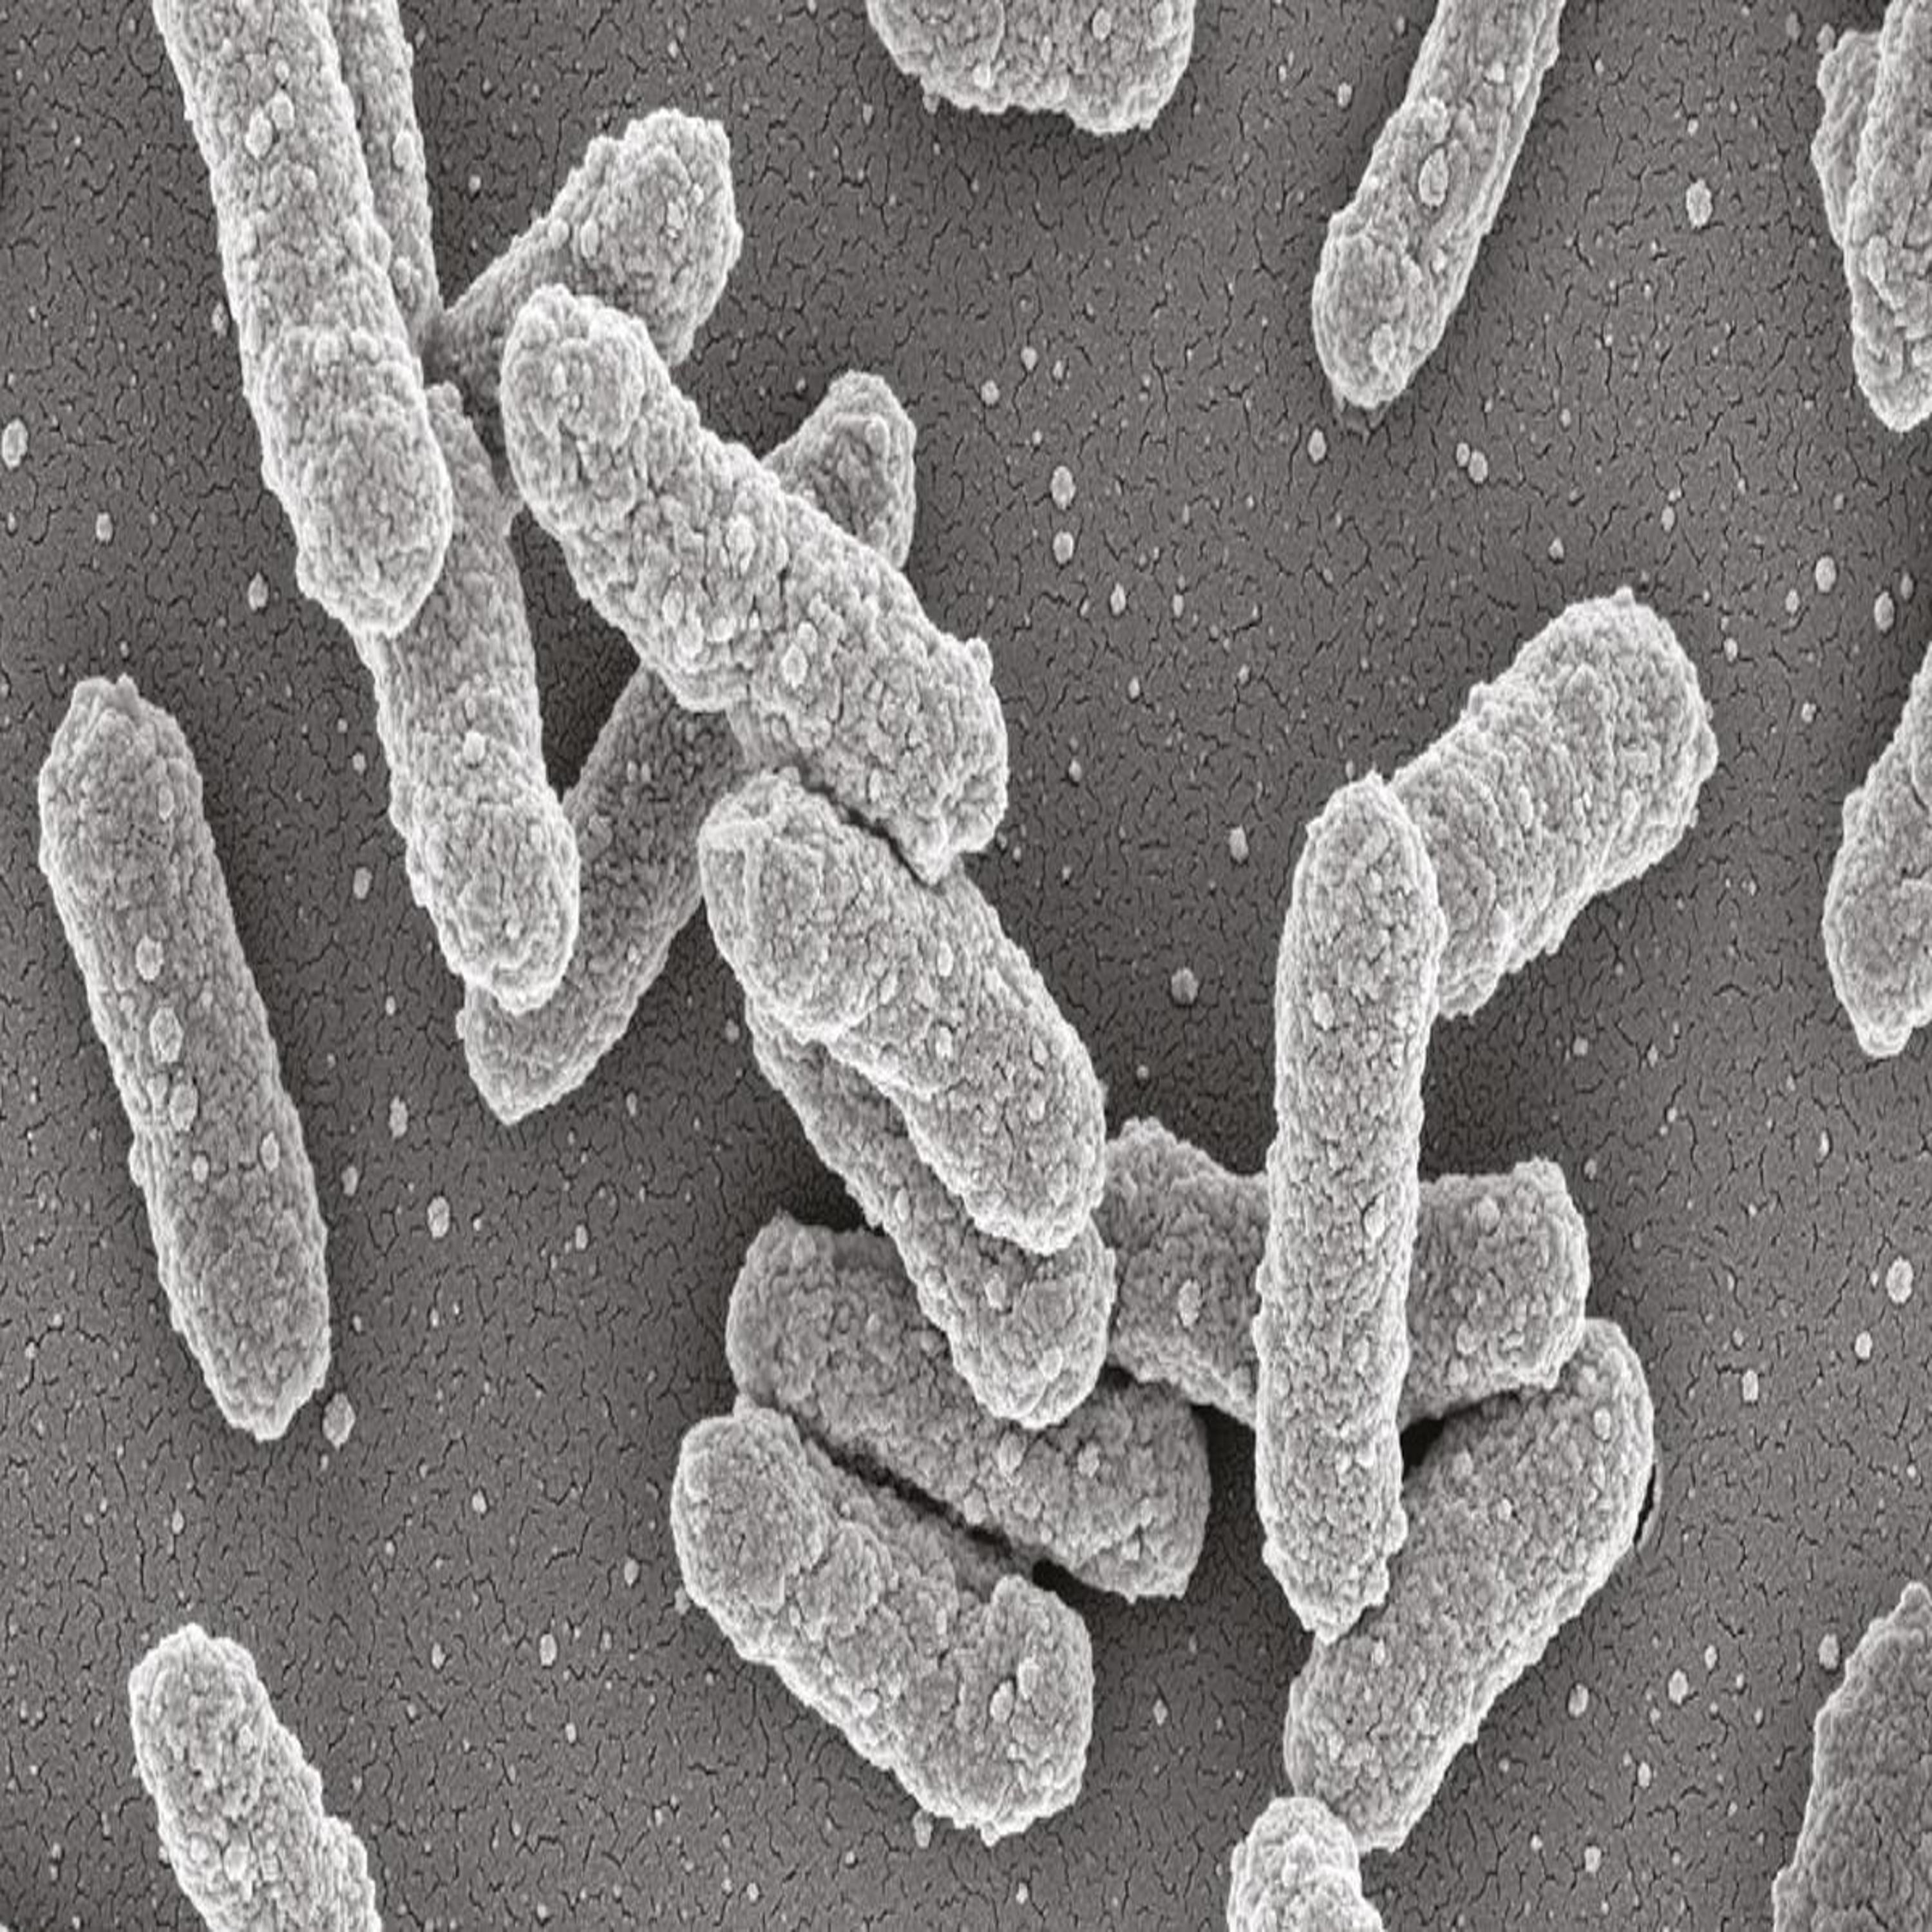salmonella_typhi5: (502, 285, 1012, 879), (37, 676, 333, 1437), (694, 770, 1108, 1256), (665, 1392, 1093, 1852), (152, 0, 455, 637), (1256, 771, 1445, 1649)
